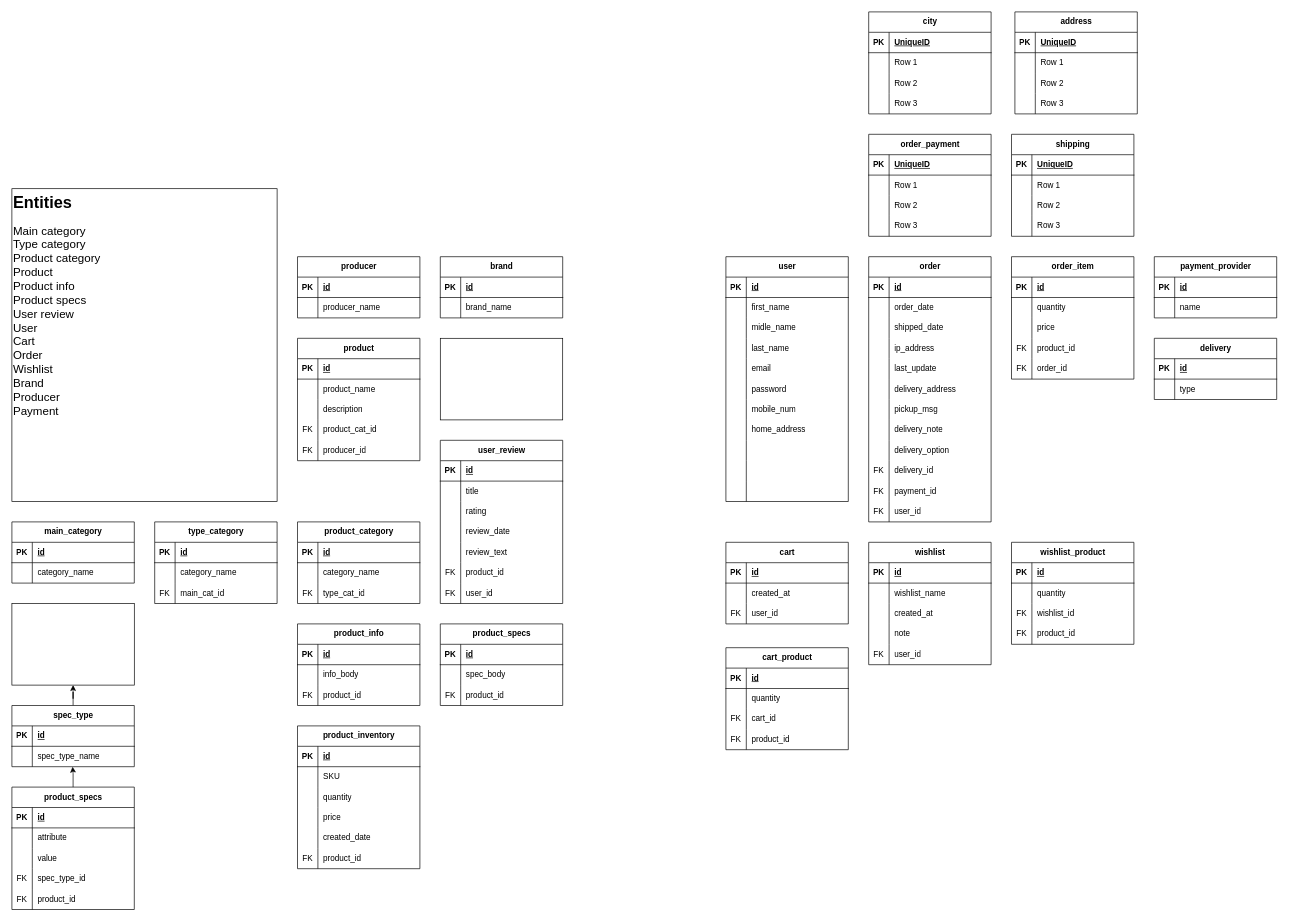
Some shapes in this 1289 by 921 pixel diagram are drawn without their labels. The shapes that lost their labels are listed below. From the top down, each one's centre as x and y in pixels, then its label:
At pixel 501 379: "Product varenr, prodnr, serienr ???".
At pixel 72 644: "EAV solution Possible solution for storing product specs".
